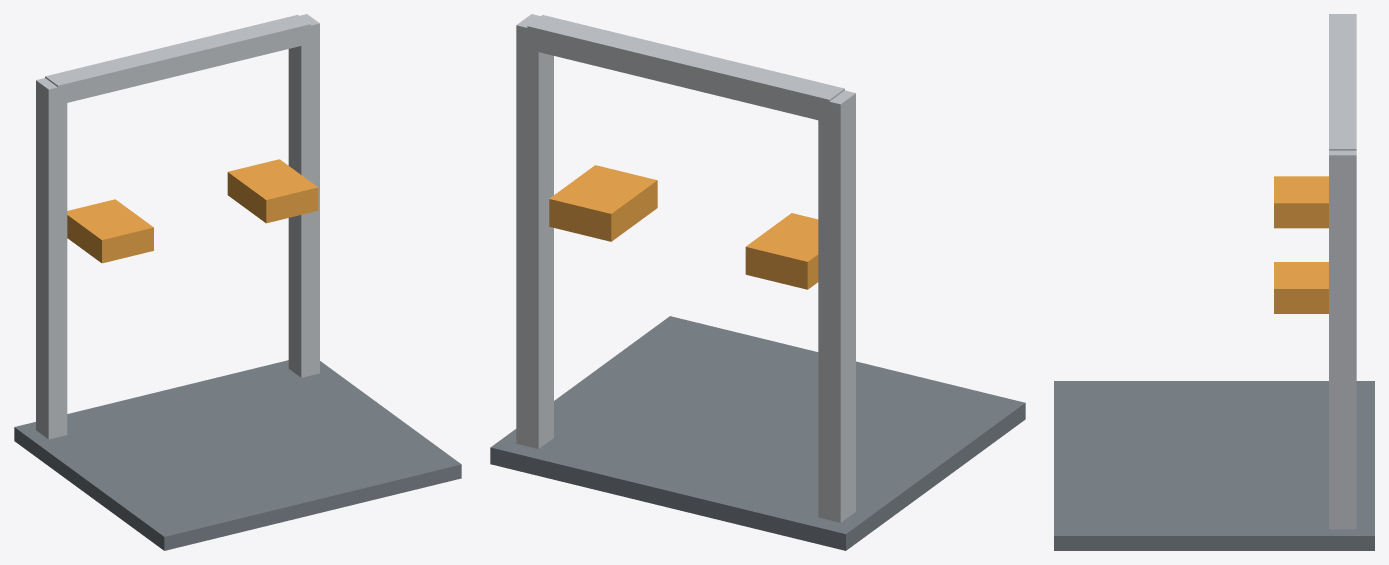
The model's file is mech-hangar-and-battle-frames-maintenance-cradle-91526d97__26934.glb.
3 views of the same model, side by side, from view 1: azimuth 30°, elevation 25°; view 2: azimuth 150°, elevation 25°; view 3: azimuth 270°, elevation 25° (orthographic). The views are drawn at different scales.
Visible parts, largest first — view 1: maintenance-cradle; view 2: maintenance-cradle; view 3: maintenance-cradle.
Part boxes in pixels (bbox=[...]): maintenance-cradle: bbox=[14, 14, 461, 550]; maintenance-cradle: bbox=[490, 14, 1025, 550]; maintenance-cradle: bbox=[1054, 14, 1374, 550].
Bounding box in the file's own units: 4 × 4.7 × 3.5.
